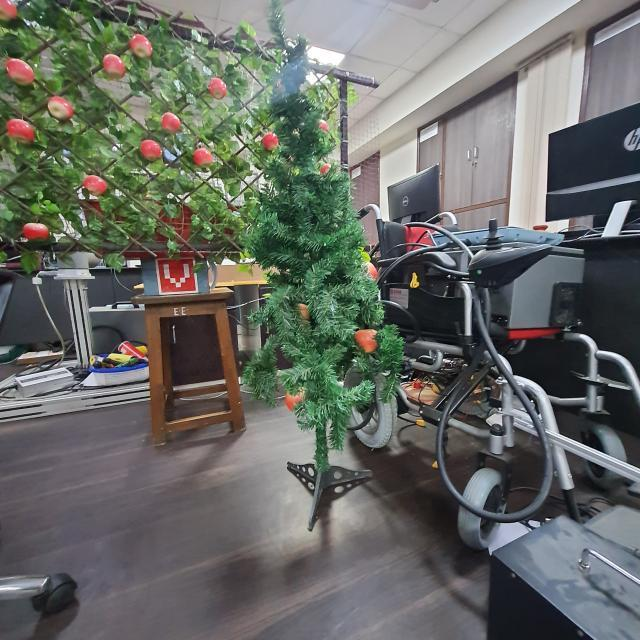Tree: (248, 36, 384, 505)
